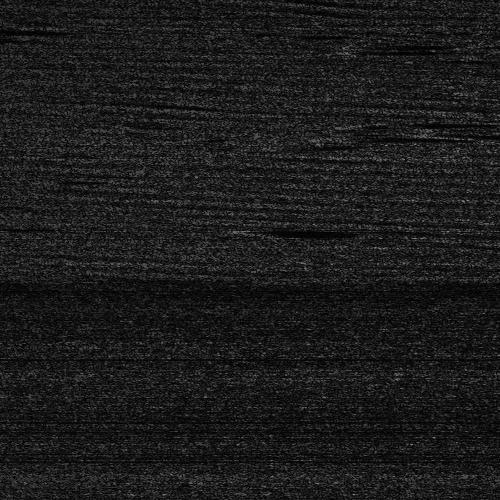rock: (412, 123, 475, 138), (228, 226, 281, 235), (331, 133, 394, 138), (347, 120, 400, 125), (357, 33, 368, 50), (281, 144, 292, 151)
shadow: (363, 33, 421, 50), (255, 226, 336, 235), (374, 120, 500, 125), (363, 133, 479, 138), (444, 123, 474, 138), (287, 144, 342, 151), (0, 27, 29, 32)
